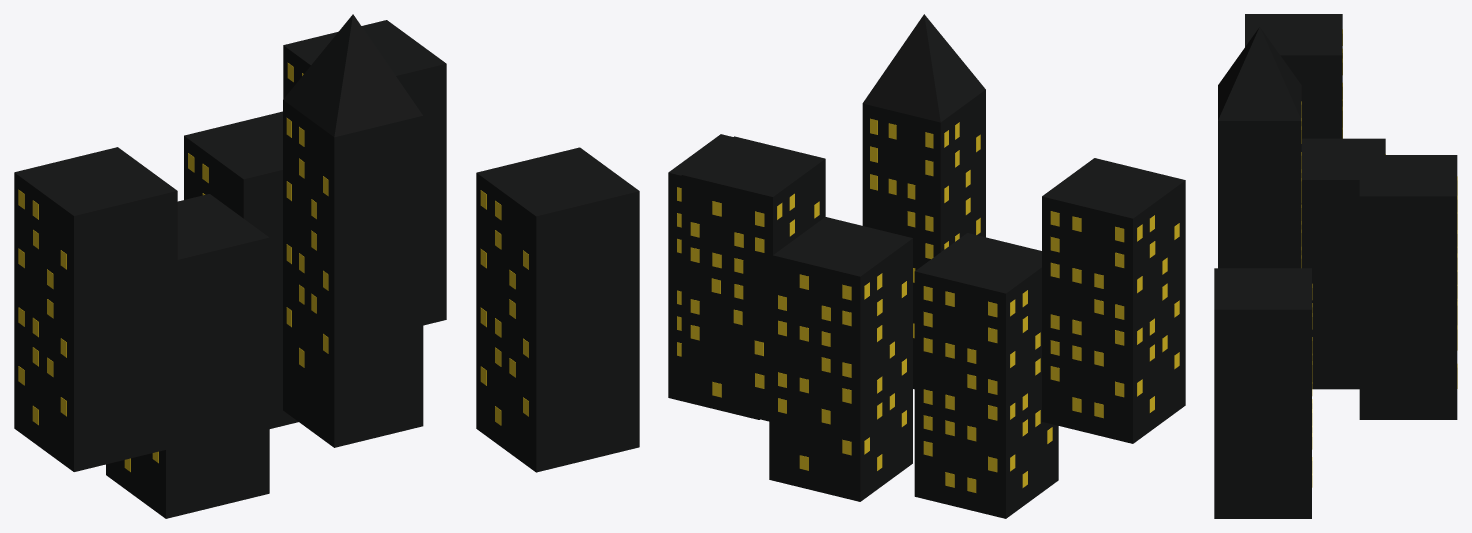
Rendered from City1_Set.fbx.
3 renders of one model, left to right at view 1: azimuth 30°, elevation 25°; view 2: azimuth 150°, elevation 25°; view 3: azimuth 270°, elevation 25°, orthographic. The views are drawn at different scales.
Visible parts, largest first — view 1: Cube.003, Cube, Cube.005, Cube.001, Cube.002; view 2: Cube.002, Cube, Cube.001, Cube.003, Cube.005; view 3: Cube.002, Cube.005, Cube.003, Cube.001, Cube.
Boxes of the visible parts, x1=… form: Cube.003: x1=283, y1=14, x2=423, y2=447; Cube: x1=14, y1=147, x2=177, y2=471; Cube.005: x1=476, y1=147, x2=639, y2=472; Cube.001: x1=106, y1=194, x2=269, y2=518; Cube.002: x1=184, y1=20, x2=446, y2=428; Cube.002: x1=681, y1=136, x2=912, y2=501; Cube: x1=1042, y1=158, x2=1185, y2=443; Cube.001: x1=914, y1=233, x2=1058, y2=518; Cube.003: x1=862, y1=14, x2=985, y2=389; Cube.005: x1=668, y1=134, x2=759, y2=419; Cube.002: x1=1359, y1=155, x2=1457, y2=419; Cube.005: x1=1214, y1=268, x2=1312, y2=518; Cube.003: x1=1218, y1=27, x2=1301, y2=268; Cube.001: x1=1301, y1=138, x2=1385, y2=389; Cube: x1=1245, y1=14, x2=1342, y2=138.
Bounding box in the file's own units: 43.36 × 36.05 × 20.42.
